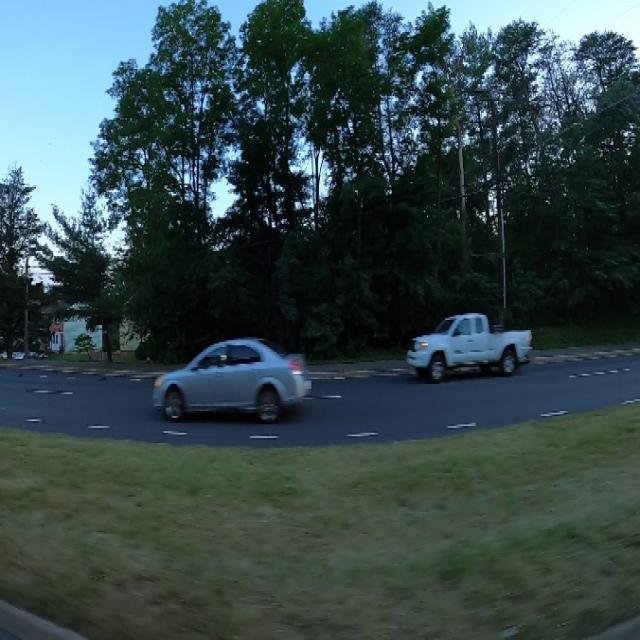car: (152, 330, 316, 433), (400, 297, 539, 393)
